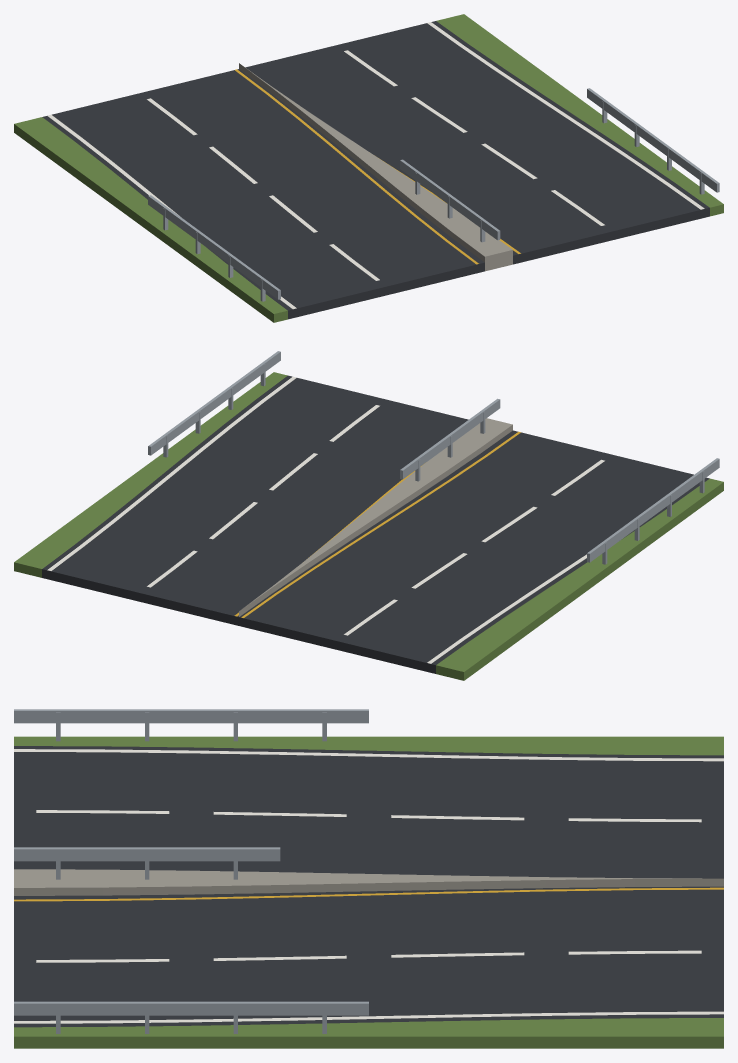
File: Transition_Street_4Lane_To_Highway_16m.glb
3 views of the same model, one above another, from view 1: azimuth 30°, elevation 25°; view 2: azimuth 150°, elevation 25°; view 3: azimuth 270°, elevation 25° (orthographic). The views are drawn at different scales.
Parts seen in each view (by area): view 1: Transition_Street_4Lane_To_Highway_16m_Asphalt, Transition_Street_4Lane_To_Highway_16m_Grass-edge, Transition_Street_4Lane_To_Highway_16m_Concrete, Transition_Street_4Lane_To_Highway_16m_Metal, Transition_Street_4Lane_To_Highway_16m_PaintWhite, Transition_Street_4Lane_To_Highway_16m_PaintYellow; view 2: Transition_Street_4Lane_To_Highway_16m_Asphalt, Transition_Street_4Lane_To_Highway_16m_Grass-edge, Transition_Street_4Lane_To_Highway_16m_Metal, Transition_Street_4Lane_To_Highway_16m_Concrete, Transition_Street_4Lane_To_Highway_16m_PaintWhite, Transition_Street_4Lane_To_Highway_16m_PaintYellow; view 3: Transition_Street_4Lane_To_Highway_16m_Asphalt, Transition_Street_4Lane_To_Highway_16m_Grass-edge, Transition_Street_4Lane_To_Highway_16m_Metal, Transition_Street_4Lane_To_Highway_16m_Concrete, Transition_Street_4Lane_To_Highway_16m_PaintWhite, Transition_Street_4Lane_To_Highway_16m_PaintYellow.
Part boxes in pixels (<box>): Transition_Street_4Lane_To_Highway_16m_Asphalt: <box>42,21,709,319</box>; Transition_Street_4Lane_To_Highway_16m_Grass-edge: <box>14,14,723,322</box>; Transition_Street_4Lane_To_Highway_16m_Concrete: <box>239,63,512,271</box>; Transition_Street_4Lane_To_Highway_16m_Metal: <box>148,88,719,301</box>; Transition_Street_4Lane_To_Highway_16m_PaintWhite: <box>47,22,704,309</box>; Transition_Street_4Lane_To_Highway_16m_PaintYellow: <box>235,69,520,264</box>; Transition_Street_4Lane_To_Highway_16m_Asphalt: <box>42,375,709,673</box>; Transition_Street_4Lane_To_Highway_16m_Grass-edge: <box>14,372,723,680</box>; Transition_Street_4Lane_To_Highway_16m_Metal: <box>148,351,719,564</box>; Transition_Street_4Lane_To_Highway_16m_Concrete: <box>239,418,512,616</box>; Transition_Street_4Lane_To_Highway_16m_PaintWhite: <box>47,376,604,663</box>; Transition_Street_4Lane_To_Highway_16m_PaintYellow: <box>234,431,520,617</box>; Transition_Street_4Lane_To_Highway_16m_Asphalt: <box>14,746,723,1027</box>; Transition_Street_4Lane_To_Highway_16m_Grass-edge: <box>14,736,723,1048</box>; Transition_Street_4Lane_To_Highway_16m_Metal: <box>14,709,368,1033</box>; Transition_Street_4Lane_To_Highway_16m_Concrete: <box>14,869,723,895</box>; Transition_Street_4Lane_To_Highway_16m_PaintWhite: <box>14,749,723,1023</box>; Transition_Street_4Lane_To_Highway_16m_PaintYellow: <box>14,887,723,901</box>.
Bounding box in the file's own units: 16 × 1.25 × 16.
